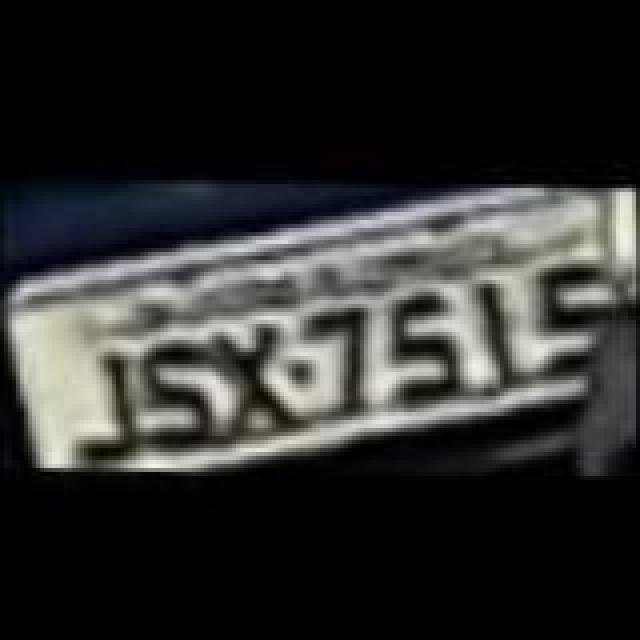1: (468, 274, 520, 390)
5: (378, 282, 466, 406), (532, 256, 616, 380)
7: (300, 288, 368, 408)
J: (62, 342, 146, 462)
S: (130, 330, 214, 454)
X: (198, 316, 306, 444)
